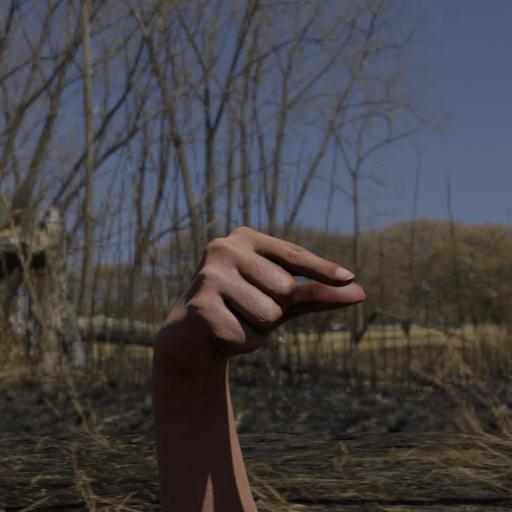G: (132, 192, 422, 512)
